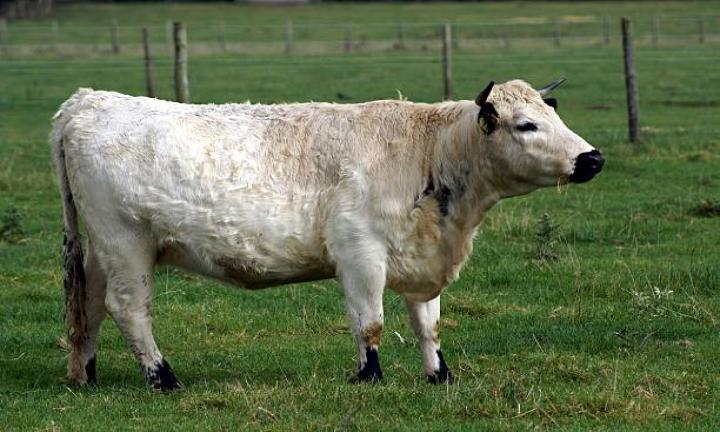Charolais: (49, 79, 601, 388)
